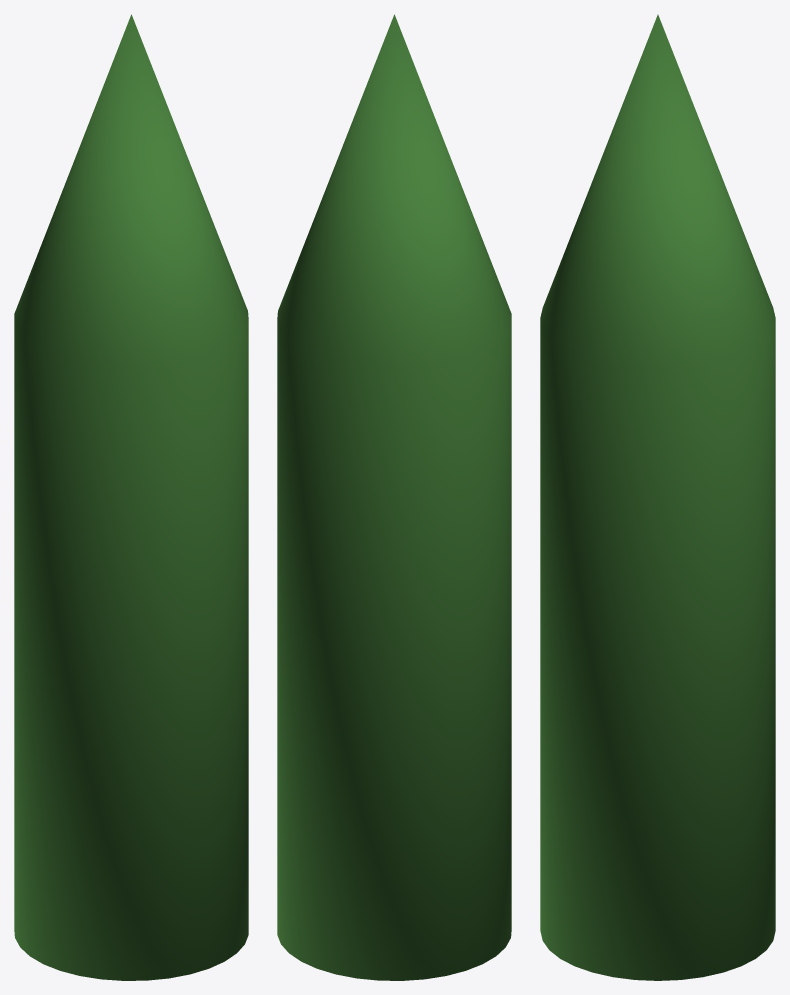
Rendered from bullet.fbx.
3 renders of one model, left to right at view 1: azimuth 30°, elevation 25°; view 2: azimuth 150°, elevation 25°; view 3: azimuth 270°, elevation 25°, orthographic.
Visible parts, largest first — view 1: Cone; view 2: Cone; view 3: Cone.
Part boxes in pixels (<box>): Cone: <box>14,14,248,980</box>; Cone: <box>277,14,511,980</box>; Cone: <box>540,14,775,980</box>.
Bounding box in the file's own units: 200 × 861 × 200.
